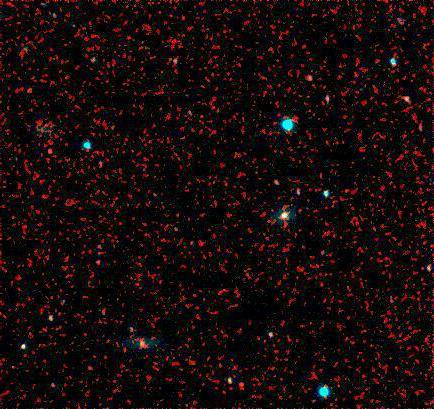star: (37, 132, 67, 162)
